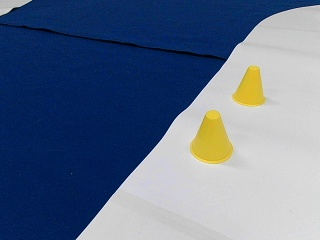cone: (191, 111, 233, 162), (233, 66, 267, 106)
